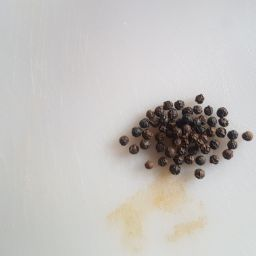Pepper corns: (105, 89, 256, 185), (161, 112, 224, 148)
